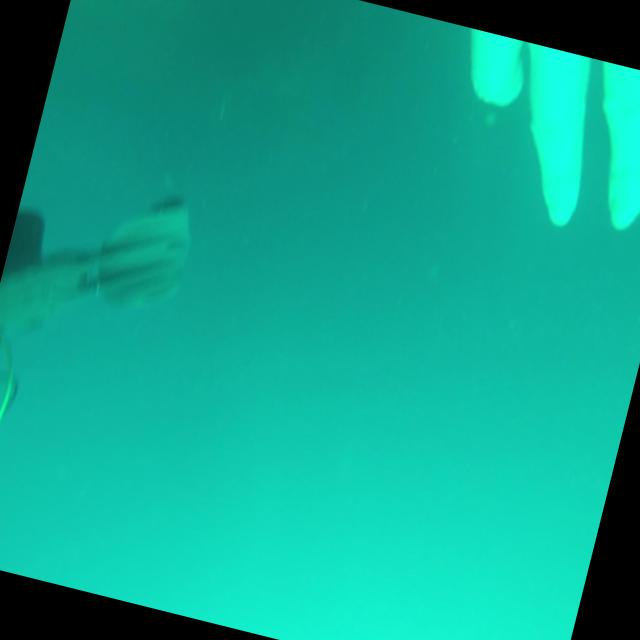human: (0, 160, 202, 525), (427, 28, 640, 249)
